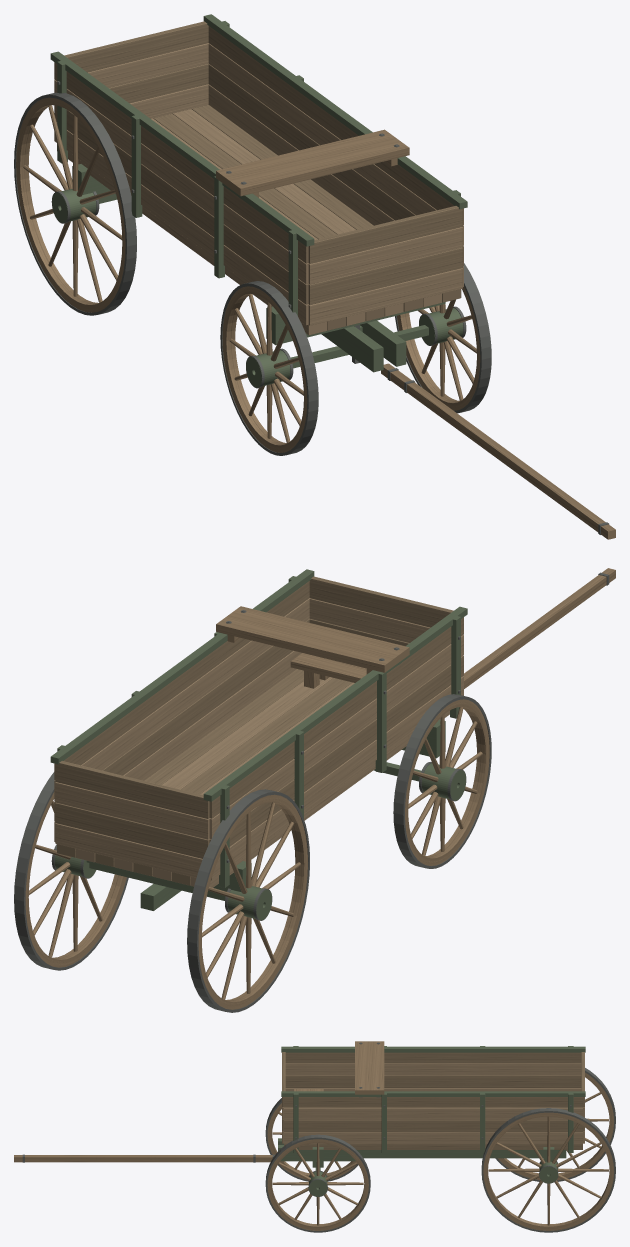
Rendered from wagon-w01.glb.
3 views of the same model, one above another, from view 1: azimuth 30°, elevation 25°; view 2: azimuth 150°, elevation 25°; view 3: azimuth 270°, elevation 25° (orthographic). The views are drawn at different scales.
Parts seen in each view (by area): view 1: vehicle_body_plank_b, vehicle_body_plank_a, vehicle_body_paint, vehicle_wheel_rear_right_timber, vehicle_wheel_front_right_timber, vehicle_body_timber, vehicle_wheel_rear_right_iron, vehicle_tongue_timber, vehicle_wheel_front_left_timber, vehicle_steer_front_paint, vehicle_wheel_front_right_iron, vehicle_wheel_front_left_iron (+4 smaller); view 2: vehicle_body_plank_b, vehicle_body_plank_a, vehicle_body_paint, vehicle_wheel_rear_right_timber, vehicle_body_timber, vehicle_wheel_front_right_timber, vehicle_wheel_rear_left_timber, vehicle_wheel_rear_right_iron, vehicle_wheel_front_right_iron, vehicle_wheel_rear_left_iron, vehicle_tongue_timber, vehicle_root_paint (+3 smaller); view 3: vehicle_body_plank_b, vehicle_body_plank_a, vehicle_body_paint, vehicle_wheel_rear_left_timber, vehicle_wheel_front_left_timber, vehicle_tongue_timber, vehicle_root_paint, vehicle_body_timber, vehicle_wheel_rear_left_iron, vehicle_wheel_rear_right_timber, vehicle_wheel_front_left_iron, vehicle_steer_front_paint (+5 smaller).
Boxes of the visible parts, x1,y1,x2,y2 form: vehicle_body_plank_b: (54, 21, 463, 330); vehicle_body_plank_a: (54, 43, 463, 335); vehicle_body_paint: (50, 14, 467, 315); vehicle_wheel_rear_right_timber: (16, 97, 125, 312); vehicle_wheel_front_right_timber: (222, 286, 307, 452); vehicle_body_timber: (216, 129, 409, 197); vehicle_wheel_rear_right_iron: (14, 92, 136, 315); vehicle_tongue_timber: (381, 363, 615, 539); vehicle_wheel_front_left_timber: (397, 286, 480, 410); vehicle_steer_front_paint: (291, 320, 428, 372); vehicle_wheel_front_right_iron: (220, 281, 318, 455); vehicle_wheel_front_left_iron: (395, 263, 491, 413); vehicle_body_plank_b: (54, 576, 463, 885); vehicle_body_plank_a: (54, 598, 463, 887); vehicle_body_paint: (50, 569, 467, 887); vehicle_wheel_rear_right_timber: (198, 794, 307, 1009); vehicle_body_timber: (216, 606, 409, 688); vehicle_wheel_front_right_timber: (405, 699, 489, 865); vehicle_wheel_rear_left_timber: (25, 792, 126, 967); vehicle_wheel_rear_right_iron: (187, 789, 309, 1012); vehicle_wheel_front_right_iron: (393, 694, 491, 868); vehicle_wheel_rear_left_iron: (14, 772, 128, 970); vehicle_tongue_timber: (464, 568, 615, 688); vehicle_root_paint: (86, 719, 445, 910); vehicle_body_plank_b: (282, 1052, 584, 1149); vehicle_body_plank_a: (282, 1063, 584, 1144); vehicle_body_paint: (281, 1046, 585, 1152); vehicle_wheel_rear_left_timber: (483, 1112, 614, 1230); vehicle_wheel_front_left_timber: (267, 1139, 368, 1230); vehicle_tongue_timber: (14, 1155, 283, 1162); vehicle_root_paint: (312, 1147, 566, 1167); vehicle_body_timber: (294, 1041, 384, 1094); vehicle_wheel_rear_left_iron: (481, 1108, 615, 1232); vehicle_wheel_rear_right_timber: (498, 1072, 614, 1180); vehicle_wheel_front_left_iron: (265, 1134, 370, 1232); vehicle_steer_front_paint: (278, 1138, 362, 1188).
Bounding box in the file's own units: 1.43 × 1.59 × 6.14.
5 materials, 5 textured.
